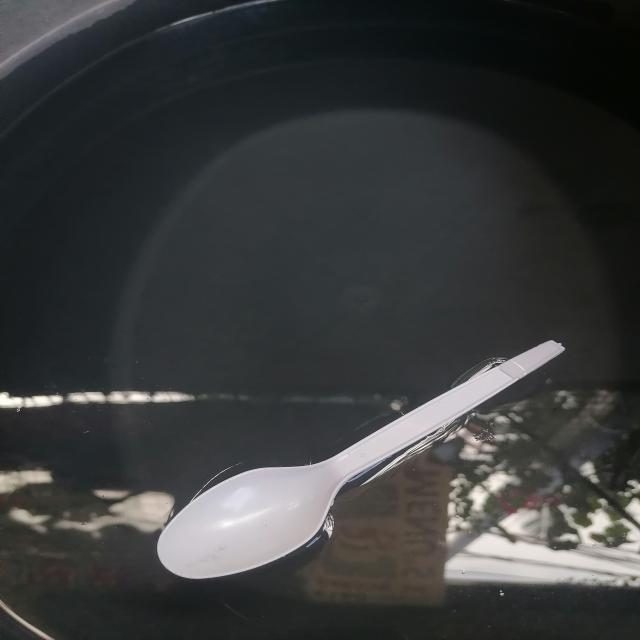Plastic Spoon: (141, 317, 591, 587)
